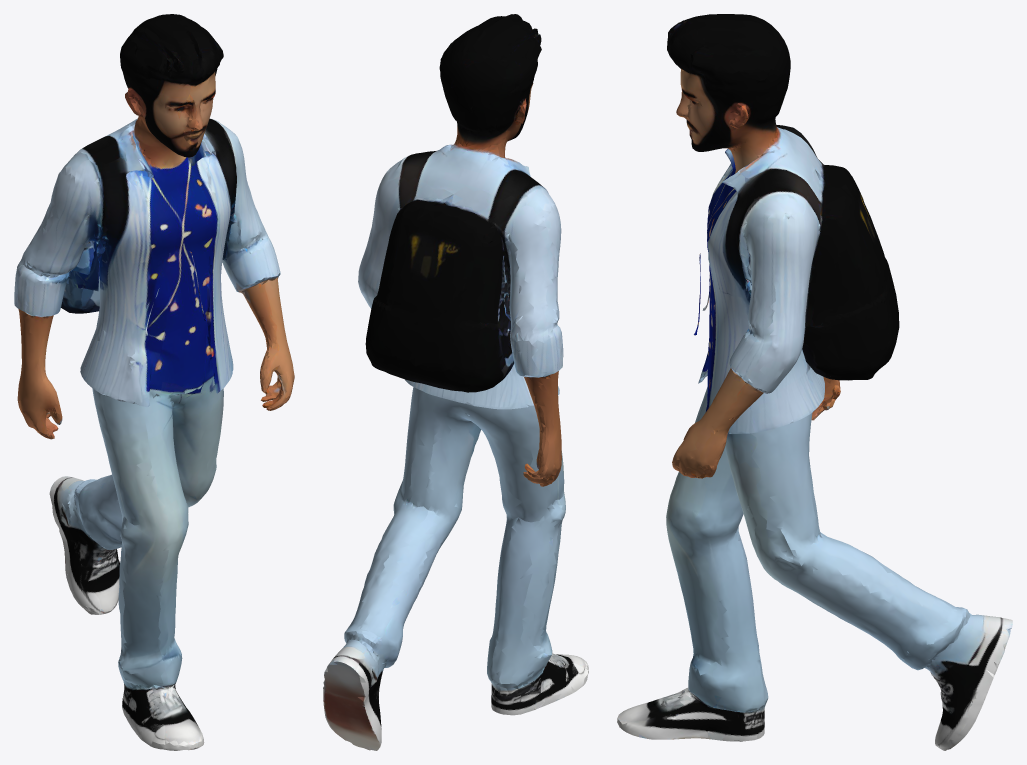
Rendered from pose_history.glb.
The picture shows the model from 3 angles, left to right: view 1: azimuth 30°, elevation 25°; view 2: azimuth 150°, elevation 25°; view 3: azimuth 270°, elevation 25°; orthographic projection. The views are drawn at different scales.
Parts seen in each view (by area): view 1: pose_history; view 2: pose_history; view 3: pose_history.
Boxes of the visible parts, x1,y1,x2,y2 form: pose_history: (14, 14, 294, 750); pose_history: (323, 14, 588, 750); pose_history: (617, 14, 1012, 750).
Size of the model in its own units: 0.6611 by 1.9 by 0.9375.
1 material, 1 textured.
